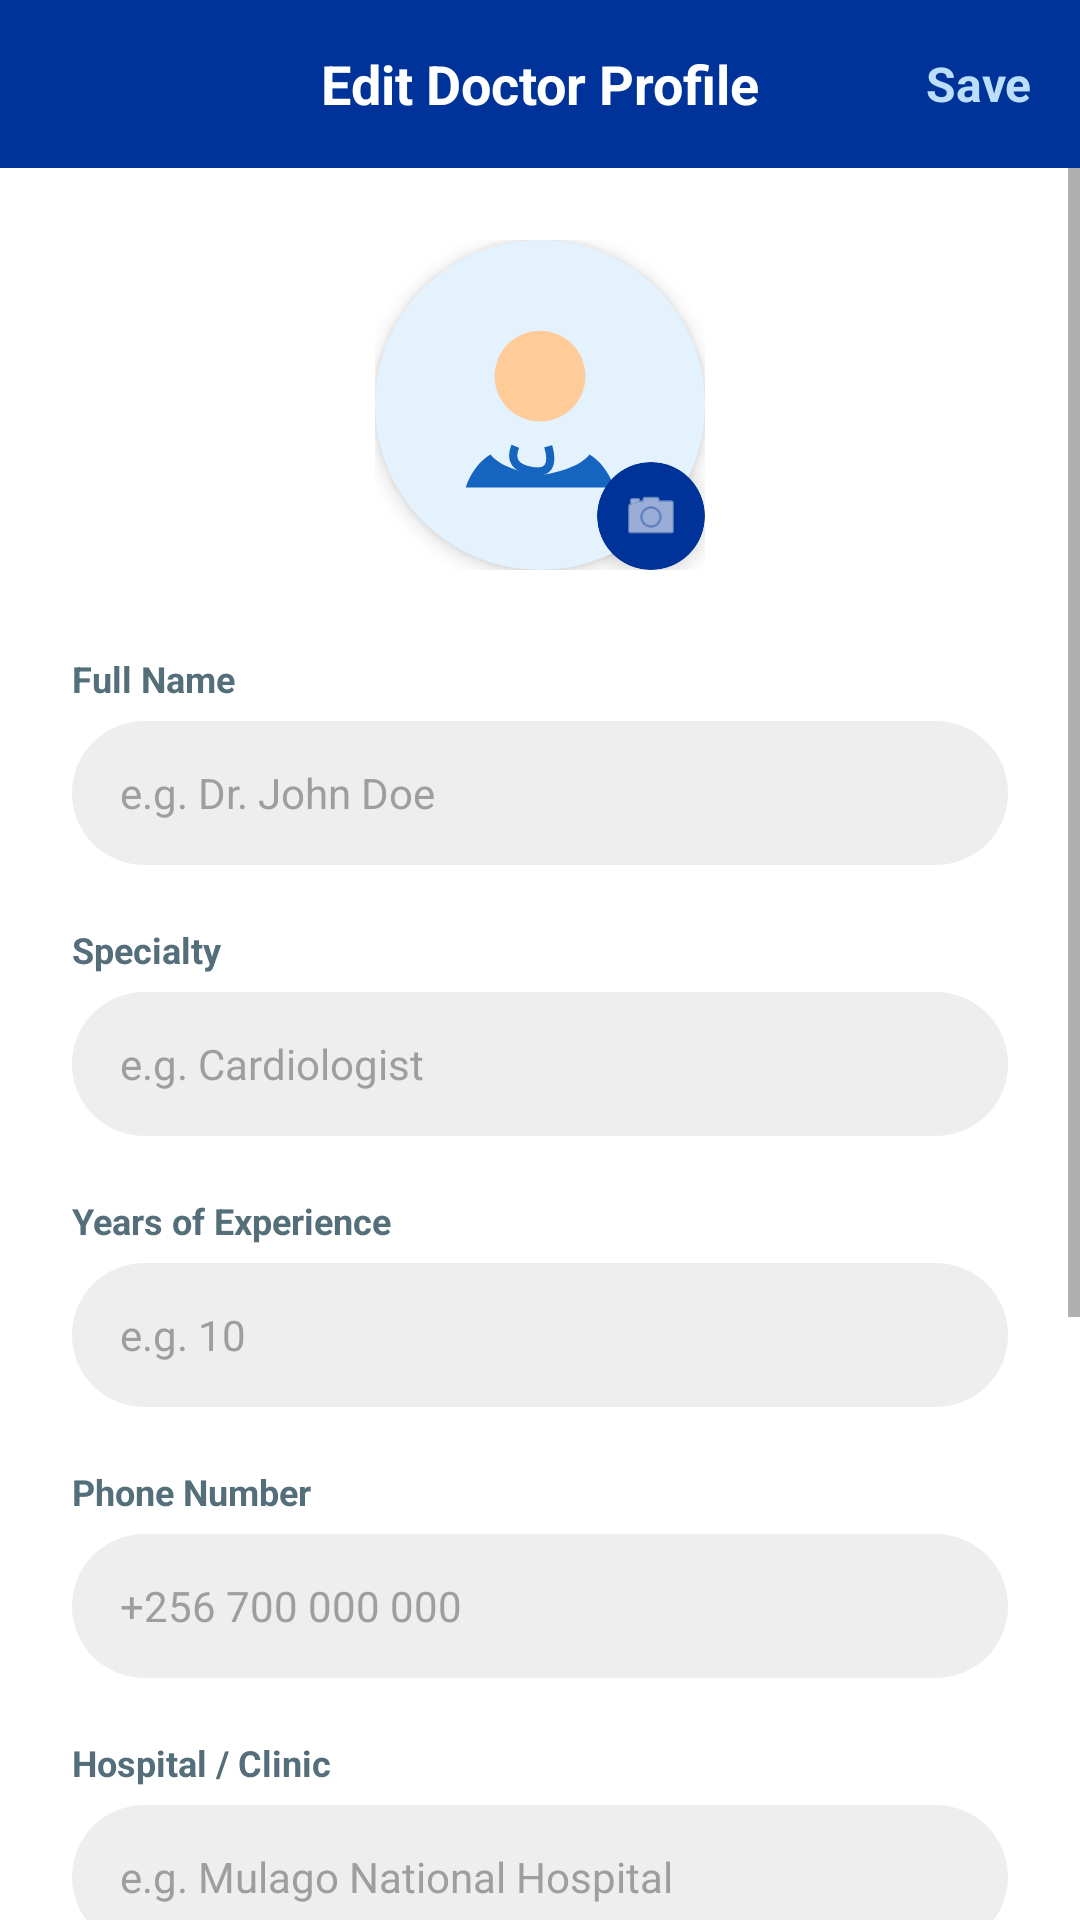

Icon click points for this 1080w x 1920h phone screenshot, format point (x, y):
camera: point (651, 515)
